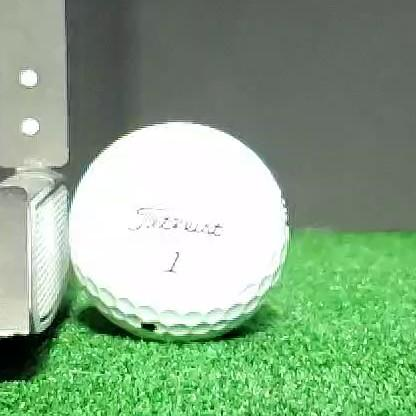golfball: (69, 123, 289, 341)
